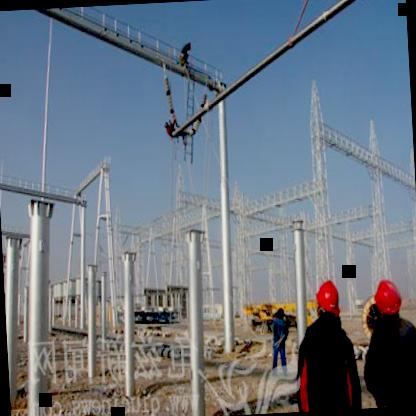helmet: (369, 277, 402, 325), (313, 278, 340, 321)
